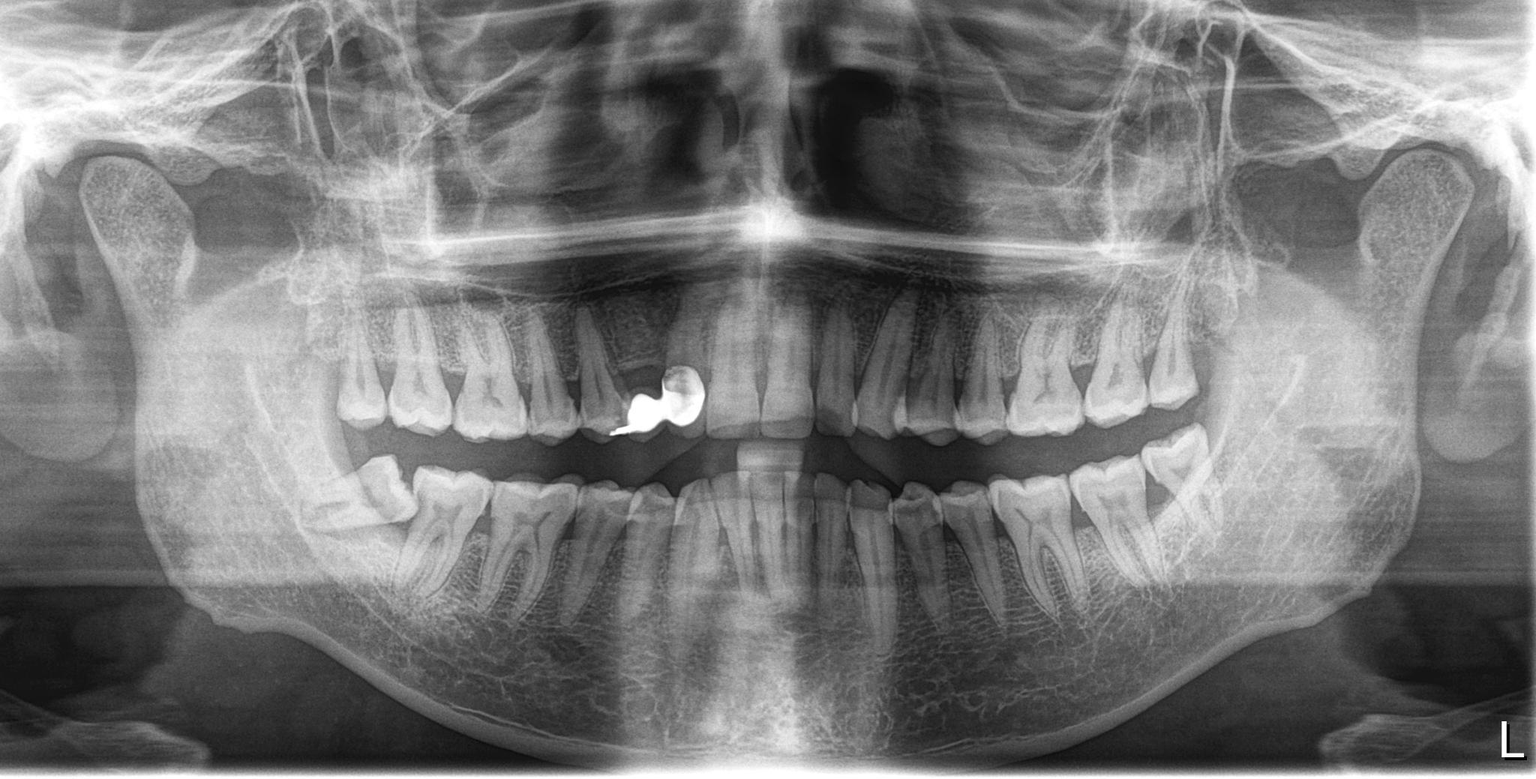Dental Caries: (889, 500, 947, 535)
Impacted Third Molar: (302, 459, 424, 538)
